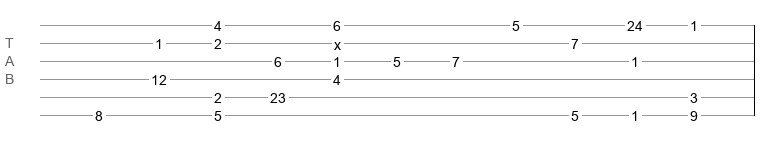1: (155, 36, 163, 46), (333, 54, 341, 64), (631, 54, 639, 64), (631, 108, 639, 118), (690, 18, 698, 28)
12: (151, 72, 167, 82)
2: (214, 90, 222, 100), (214, 36, 222, 46)
23: (270, 90, 286, 100)
24: (627, 18, 643, 28)
3: (690, 90, 698, 100)
4: (214, 18, 222, 28), (333, 72, 341, 82)
5: (214, 108, 222, 118), (393, 54, 401, 64), (512, 18, 520, 28), (571, 108, 579, 118)
6: (274, 54, 282, 64), (333, 18, 341, 28)
7: (452, 54, 460, 64), (571, 36, 579, 46)
8: (95, 108, 103, 118)
9: (690, 108, 698, 118)
x: (334, 37, 341, 45)
